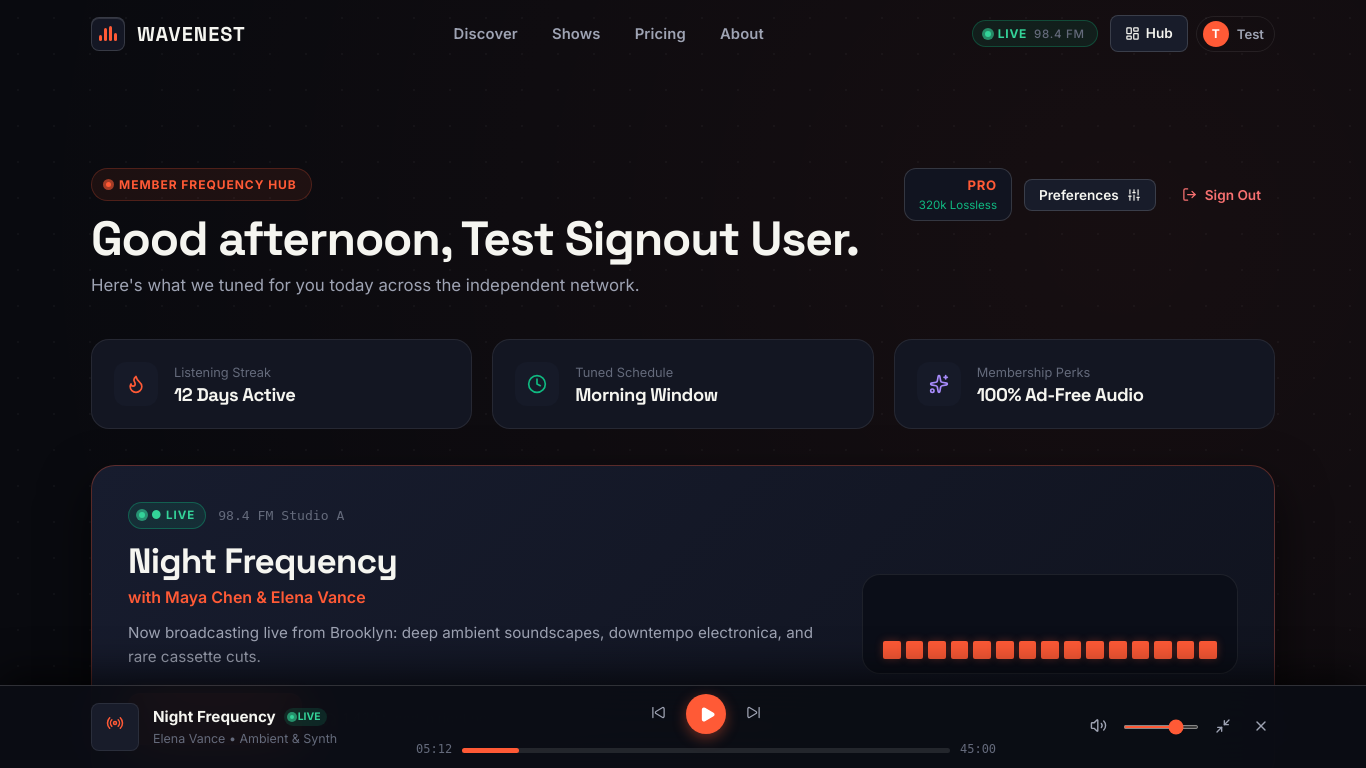
Scenario: Wavenest Radio Application Test Suite › allows user to sign out and clears active prototype session
The image size is (1366, 768).
Click the button with test id "dashboard-signout-btn". click: (1221, 195)
box: [1168, 180, 1275, 210]
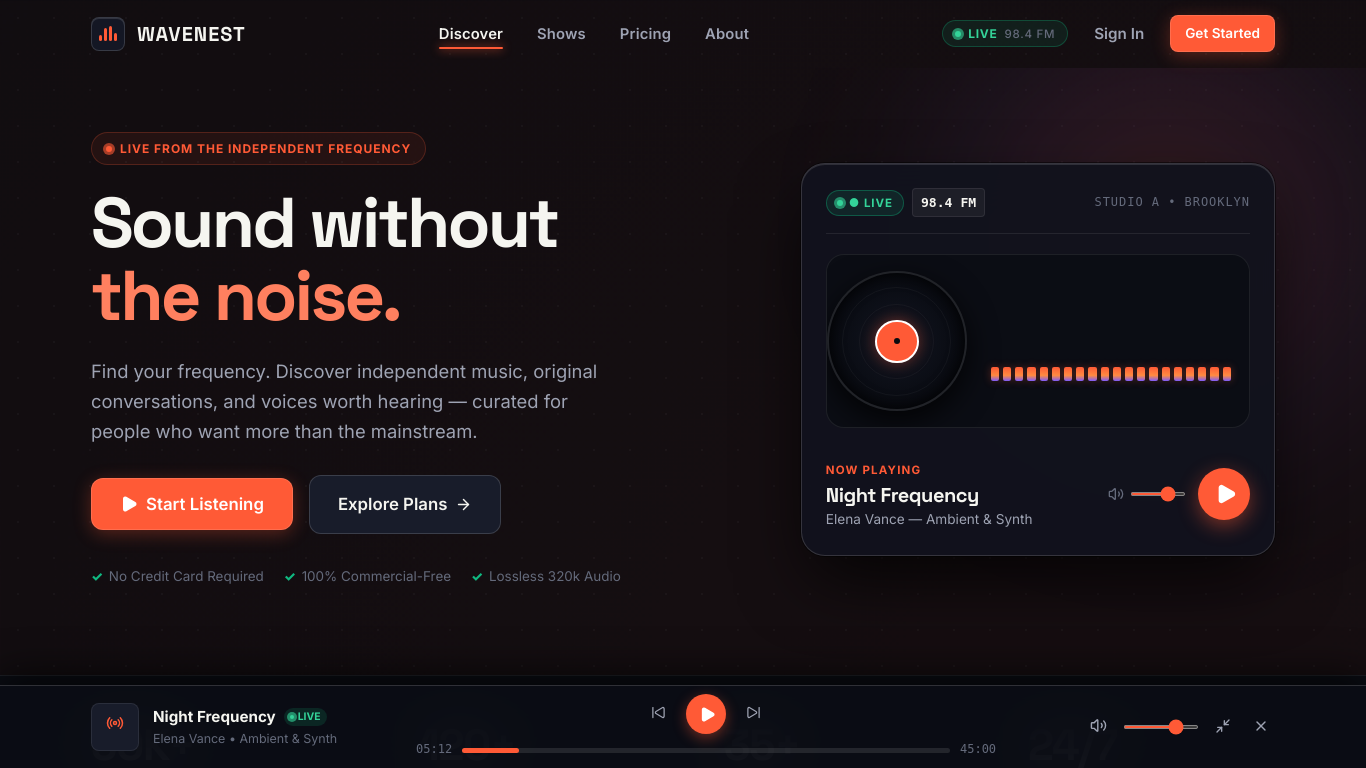
Now the button "Sign In" is shown, box [1080, 16, 1158, 51]
